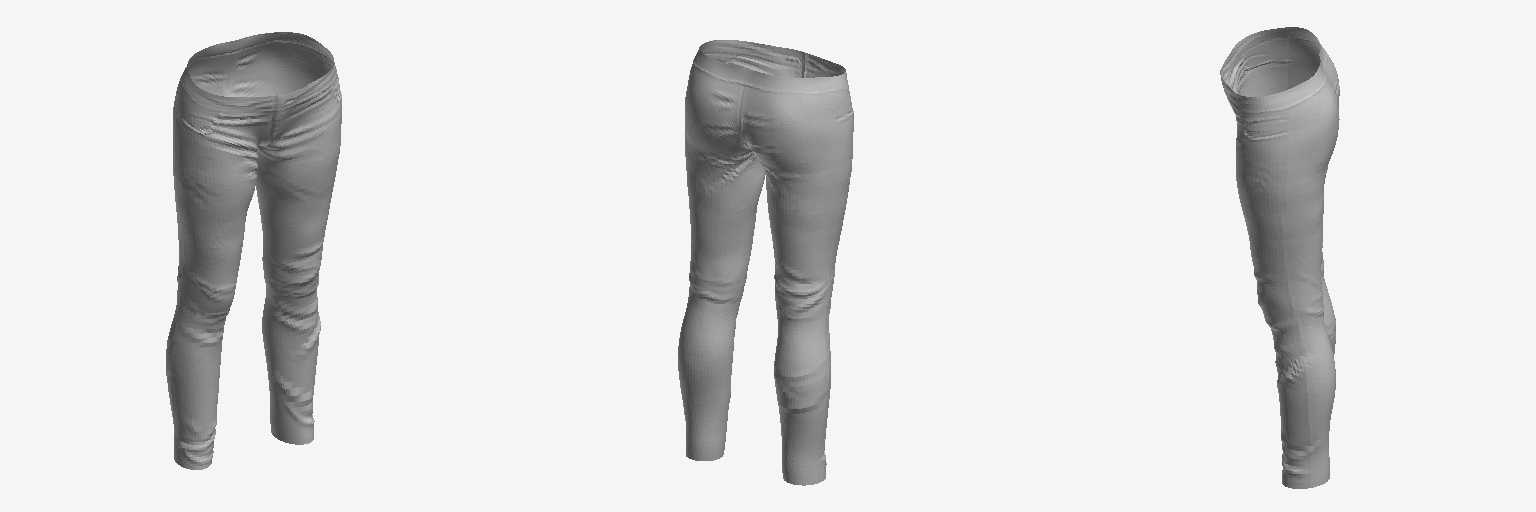
File: denim-jeans.OBJ
The picture shows the model from 3 angles: view 1: azimuth 30°, elevation 25°; view 2: azimuth 150°, elevation 25°; view 3: azimuth 270°, elevation 25°; orthographic projection.
Parts seen in each view (by area): view 1: Group1; view 2: Group1; view 3: Group1.
Part boxes in pixels (x1,y1,x2,y2): Group1: (166, 32, 341, 469); Group1: (678, 40, 853, 485); Group1: (1220, 27, 1339, 488).
Size of the model in its own units: 37.73 by 92.41 by 24.77.